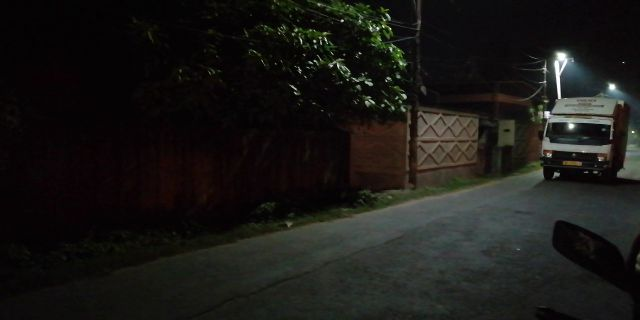Minitruck: (542, 93, 622, 187)
